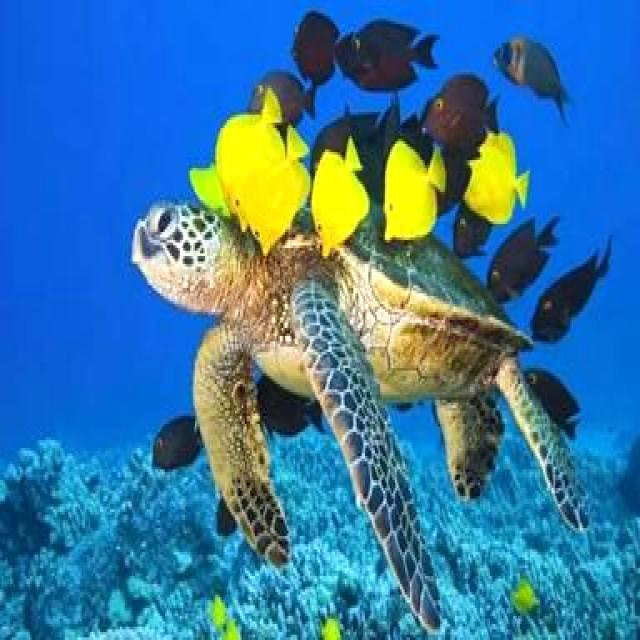Sea turtle: (132, 188, 594, 628)
